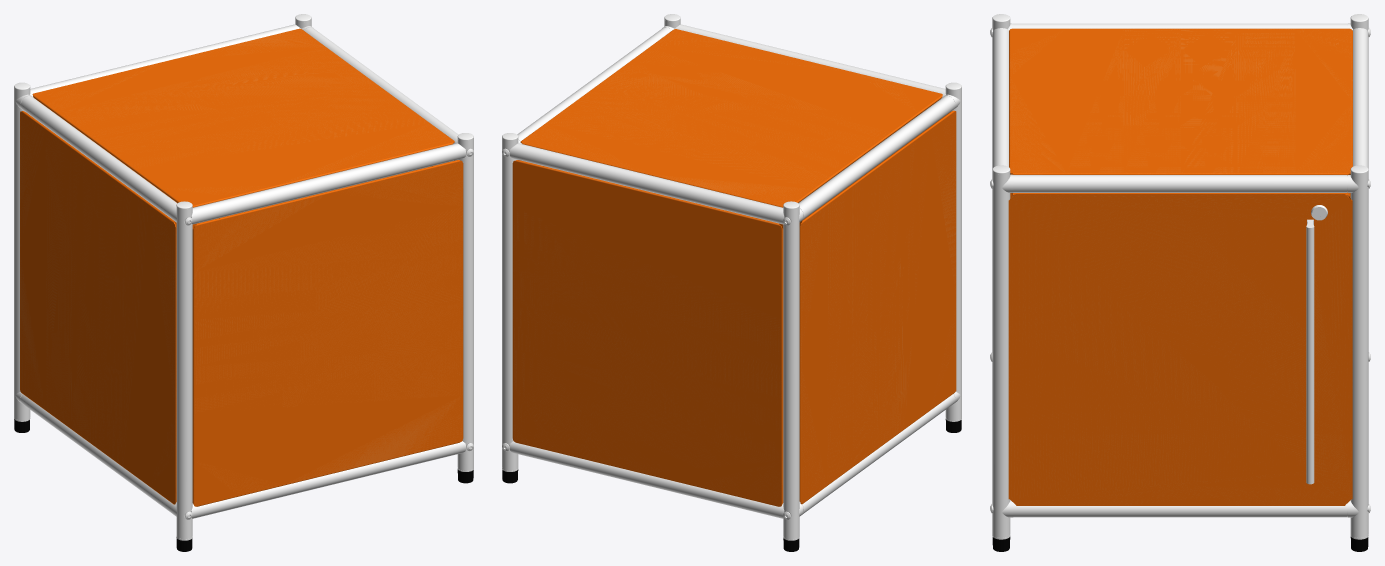
Rendered from 40x40x40-2-6-orange.glb.
3 views of the same model, side by side, from view 1: azimuth 30°, elevation 25°; view 2: azimuth 150°, elevation 25°; view 3: azimuth 270°, elevation 25° (orthographic). The views are drawn at different scales.
Visible parts, largest first — view 1: 直角鐵板-40x40-2 - 零件, 直角鐵板-40x40-4 - 零件, 直角鐵板-40x40-5 - 零件, 鐵管-1層-40-正常腳-32mm-5 - 零件, 消水孔鐵管-40深-2 - 零件, 鐵管-1層-40-正常腳-32mm-4 - 零件, 消水孔鐵管-40深-1 - 零件, 反-鐵管-40-354..4-18 - 零件, 鏡射鐵管-1層-40-正常腳-32mm-2 - 零件, 反-鐵管-40-354..4-15 - 零件, 鏡射消水孔鐵管-40深-2 - 零件, 反-鐵管-40-354..4-17 - 零件; view 2: object 43, 直角鐵板-40x40-4 - 零件, 直角鐵板-40x40-5 - 零件, 鏡射鐵管-1層-40-正常腳-32mm-2 - 零件, 鏡射消水孔鐵管-40深-2 - 零件, 鏡射鐵管-1層-40-正常腳-32mm-1 - 零件, 鏡射消水孔鐵管-40深-1 - 零件, 反-鐵管-40-354..4-18 - 零件, 鐵管-1層-40-正常腳-32mm-5 - 零件, 消水孔鐵管-40深-2 - 零件, 反-鐵管-40-354..4-15 - 零件, 反-鐵管-40-354..4-17 - 零件; view 3: object 25, 直角鐵板-40x40-5 - 零件, 鐵管-1層-40-正常腳-32mm-4 - 零件, 鏡射鐵管-1層-40-正常腳-32mm-1 - 零件, 反-鐵管-40-354..4-17 - 零件, 反-鐵管-40-354..4-1 - 零件, 消水孔鐵管-40深-2 - 零件, 鏡射消水孔鐵管-40深-2 - 零件, 反-鐵管-40-354..4-18 - 零件.
Boxes of the visible parts, bbox=[...] form: 直角鐵板-40x40-2 - 零件: bbox=[192, 160, 463, 506]; 直角鐵板-40x40-4 - 零件: bbox=[20, 111, 176, 504]; 直角鐵板-40x40-5 - 零件: bbox=[32, 28, 454, 207]; 鐵管-1層-40-正常腳-32mm-5 - 零件: bbox=[176, 207, 192, 539]; 消水孔鐵管-40深-2 - 零件: bbox=[191, 143, 465, 224]; 鐵管-1層-40-正常腳-32mm-4 - 零件: bbox=[457, 138, 473, 470]; 消水孔鐵管-40深-1 - 零件: bbox=[191, 441, 465, 518]; 反-鐵管-40-354..4-18 - 零件: bbox=[20, 96, 177, 219]; 鏡射鐵管-1層-40-正常腳-32mm-2 - 零件: bbox=[14, 88, 30, 420]; 反-鐵管-40-354..4-15 - 零件: bbox=[20, 394, 173, 513]; 鏡射消水孔鐵管-40深-2 - 零件: bbox=[30, 24, 300, 97]; 反-鐵管-40-354..4-17 - 零件: bbox=[304, 27, 458, 144]; object 43: bbox=[512, 160, 783, 506]; 直角鐵板-40x40-4 - 零件: bbox=[799, 110, 956, 504]; 直角鐵板-40x40-5 - 零件: bbox=[520, 29, 942, 207]; 鏡射鐵管-1層-40-正常腳-32mm-2 - 零件: bbox=[783, 206, 799, 539]; 鏡射消水孔鐵管-40深-2 - 零件: bbox=[509, 143, 784, 224]; 鏡射鐵管-1層-40-正常腳-32mm-1 - 零件: bbox=[502, 138, 518, 470]; 鏡射消水孔鐵管-40深-1 - 零件: bbox=[509, 441, 784, 518]; 反-鐵管-40-354..4-18 - 零件: bbox=[798, 96, 955, 219]; 鐵管-1層-40-正常腳-32mm-5 - 零件: bbox=[945, 88, 961, 420]; 消水孔鐵管-40深-2 - 零件: bbox=[675, 24, 945, 98]; 反-鐵管-40-354..4-15 - 零件: bbox=[799, 394, 955, 513]; 反-鐵管-40-354..4-17 - 零件: bbox=[517, 27, 671, 141]; object 25: bbox=[1008, 192, 1352, 505]; 直角鐵板-40x40-5 - 零件: bbox=[1009, 28, 1352, 174]; 鐵管-1層-40-正常腳-32mm-4 - 零件: bbox=[992, 171, 1010, 537]; 鏡射鐵管-1層-40-正常腳-32mm-1 - 零件: bbox=[1350, 171, 1368, 537]; 反-鐵管-40-354..4-17 - 零件: bbox=[1013, 175, 1347, 192]; 反-鐵管-40-354..4-1 - 零件: bbox=[1013, 503, 1347, 517]; 消水孔鐵管-40深-2 - 零件: bbox=[992, 28, 1008, 168]; 鏡射消水孔鐵管-40深-2 - 零件: bbox=[1352, 28, 1368, 180]; 反-鐵管-40-354..4-18 - 零件: bbox=[1013, 23, 1347, 28].
Bounding box in the file's own units: 0.4202 × 0.4452 × 0.4035.
